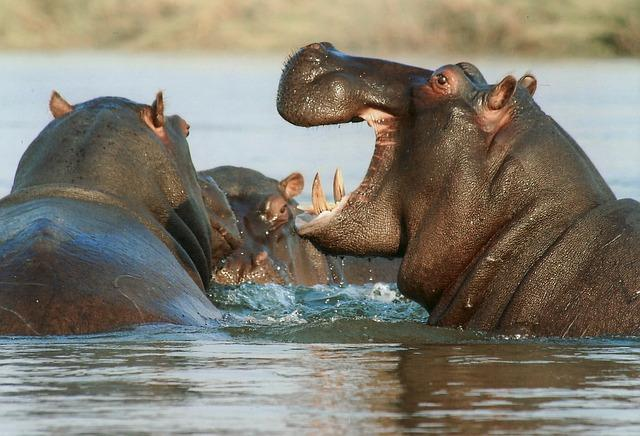Non_Gorille: (18, 9, 621, 353)
